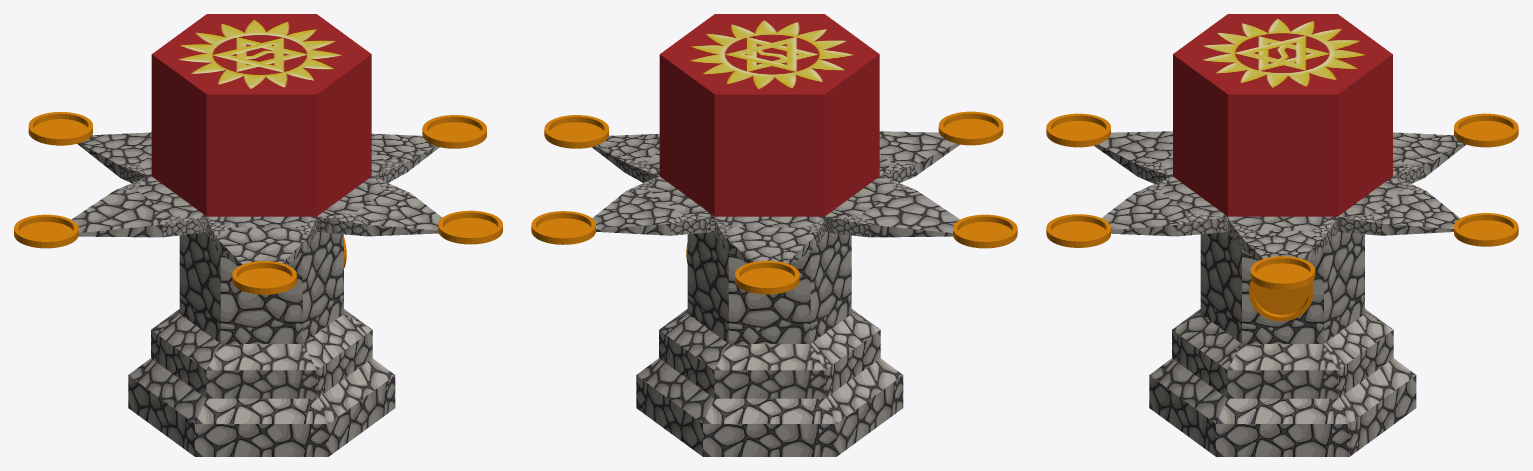
Rendered from shaktiman suit case.fbx.
3 renders of one model, left to right at view 1: azimuth 30°, elevation 25°; view 2: azimuth 150°, elevation 25°; view 3: azimuth 270°, elevation 25°, orthographic.
Parts seen in each view (by area): view 1: Cylinder, case, Cylinder.001; view 2: Cylinder, case, Cylinder.001; view 3: Cylinder, case, Cylinder.001.
Boxes of the visible parts, x1,y1,x2,y2 form: Cylinder: [71, 132, 442, 456]; case: [151, 14, 371, 216]; Cylinder.001: [14, 112, 502, 294]; Cylinder: [592, 131, 959, 456]; case: [659, 14, 879, 216]; Cylinder.001: [531, 111, 1017, 294]; Cylinder: [1094, 131, 1466, 456]; case: [1173, 14, 1392, 216]; Cylinder.001: [1046, 113, 1518, 321].
Size of the model in its own units: 843 by 624 by 743.
Materials: 3 (2 with a texture image).
